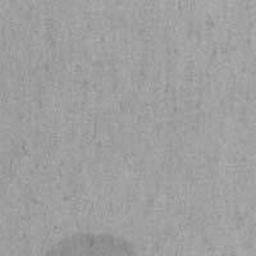Oil spot: (37, 230, 140, 256)
